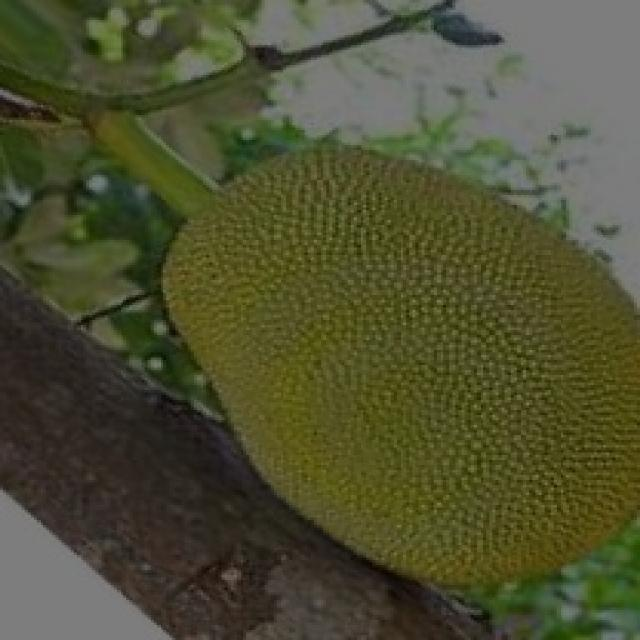Fruit: (221, 275, 640, 632)
